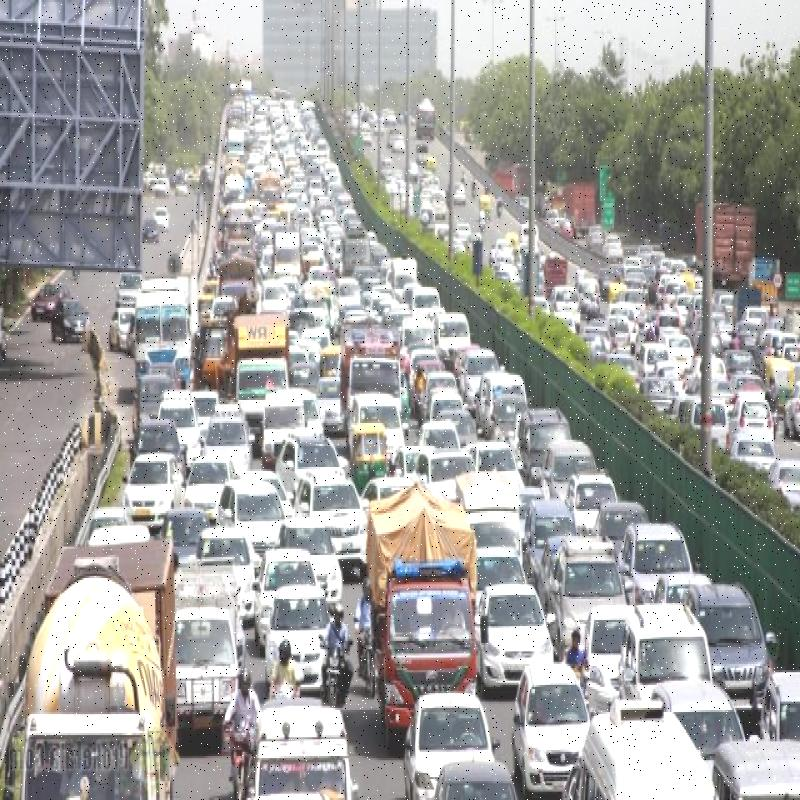car: (561, 682, 714, 800), (250, 686, 362, 800), (474, 570, 557, 707), (404, 674, 493, 791), (685, 580, 764, 696), (286, 463, 369, 562), (276, 585, 340, 702), (620, 510, 688, 604), (128, 442, 182, 543), (223, 470, 277, 566), (540, 438, 607, 515)
